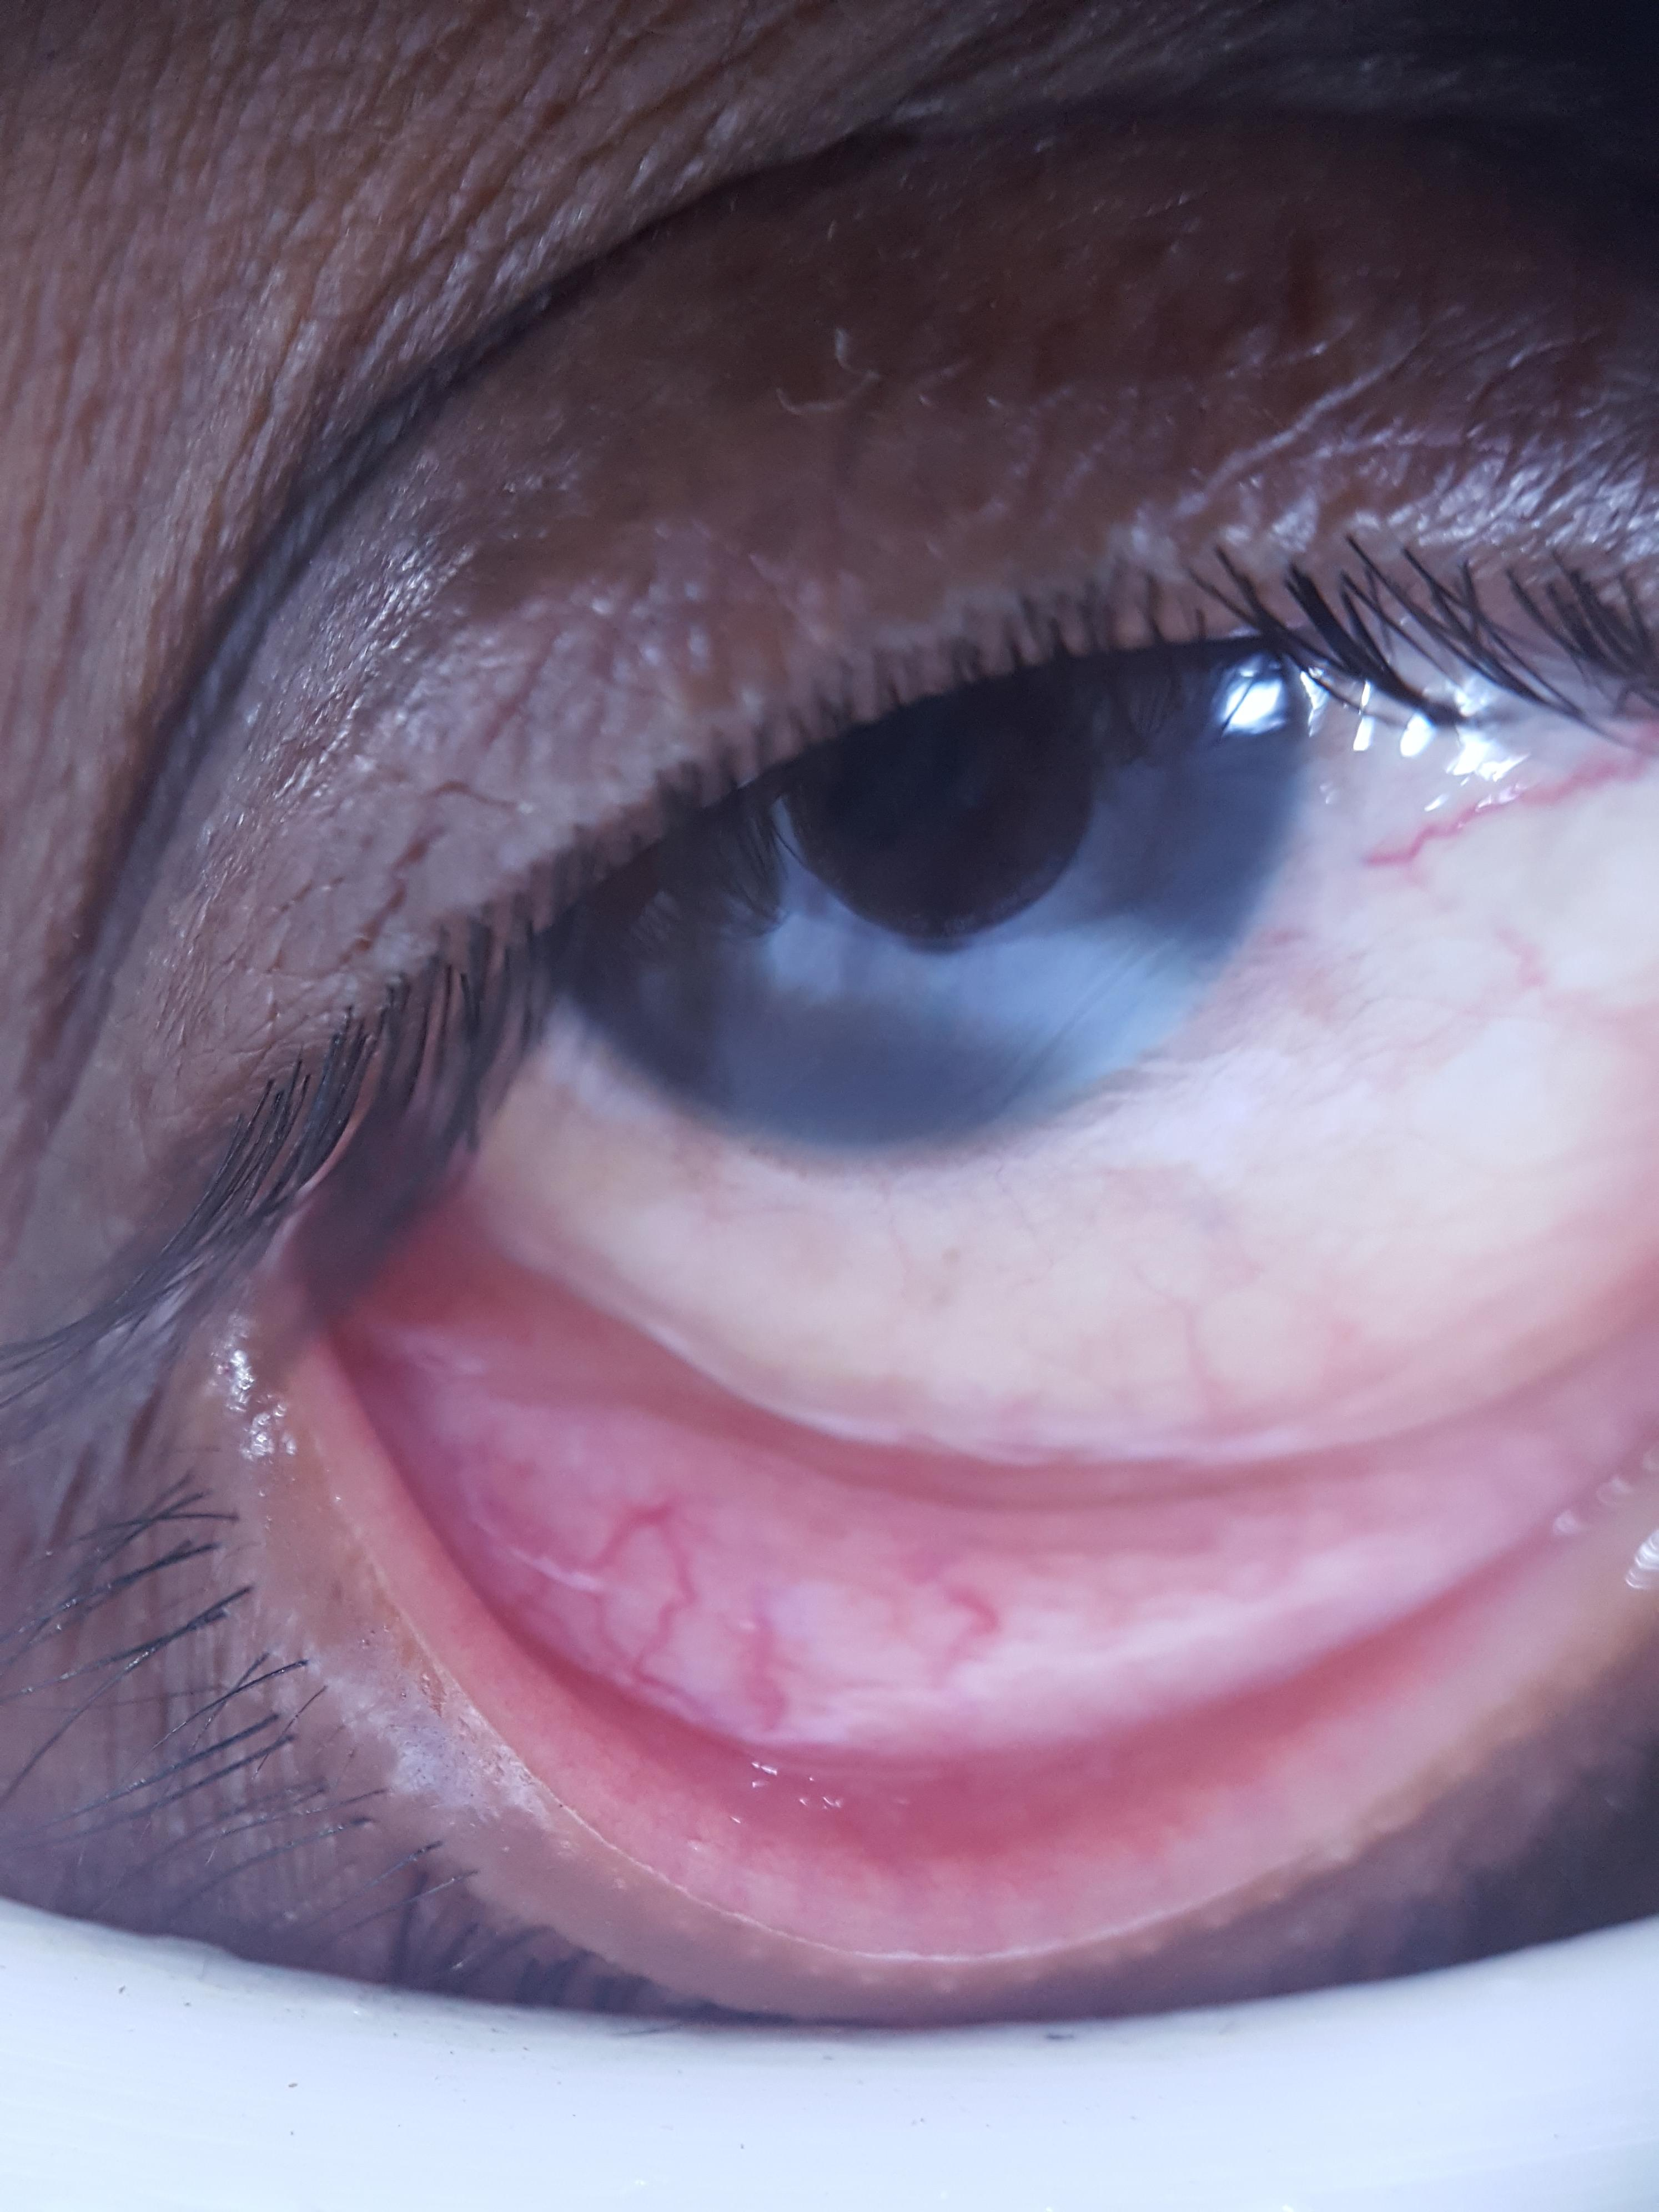forniceal: (359, 1282, 1659, 1768)
forniceal_palpebral: (324, 1277, 1659, 1893)
palpebral: (329, 1336, 1554, 1885)
